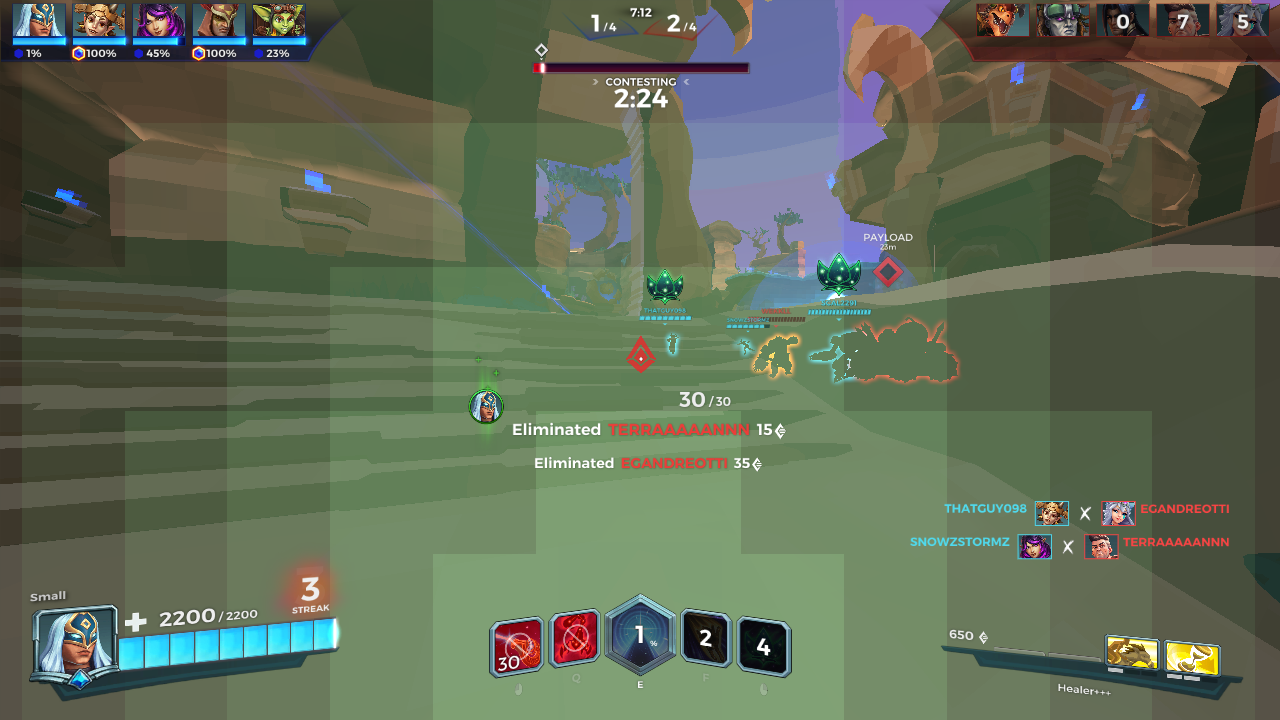model: (750, 329, 803, 387)
